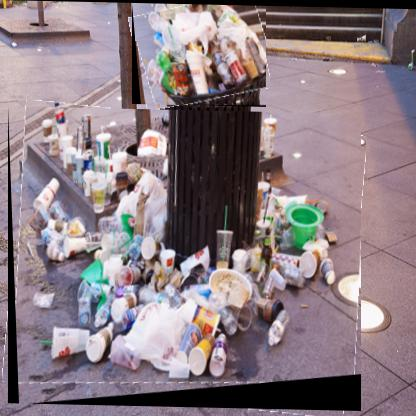Garbage: (9, 108, 363, 412), (133, 3, 268, 108)
